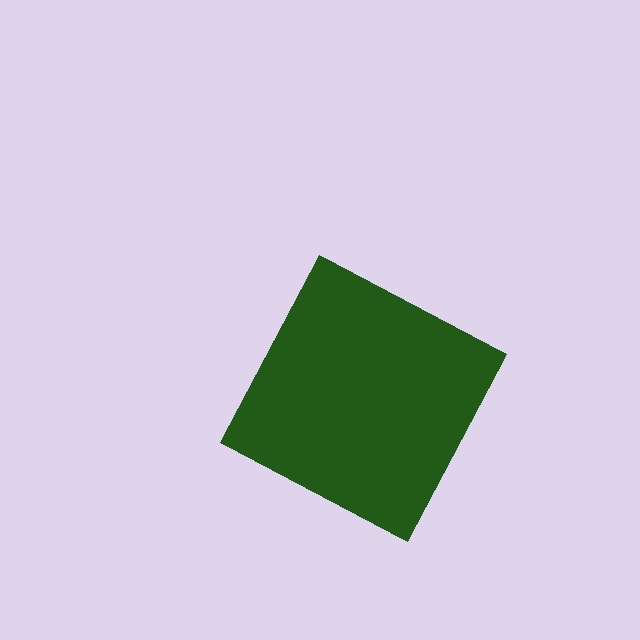square: (219, 255, 506, 541)
